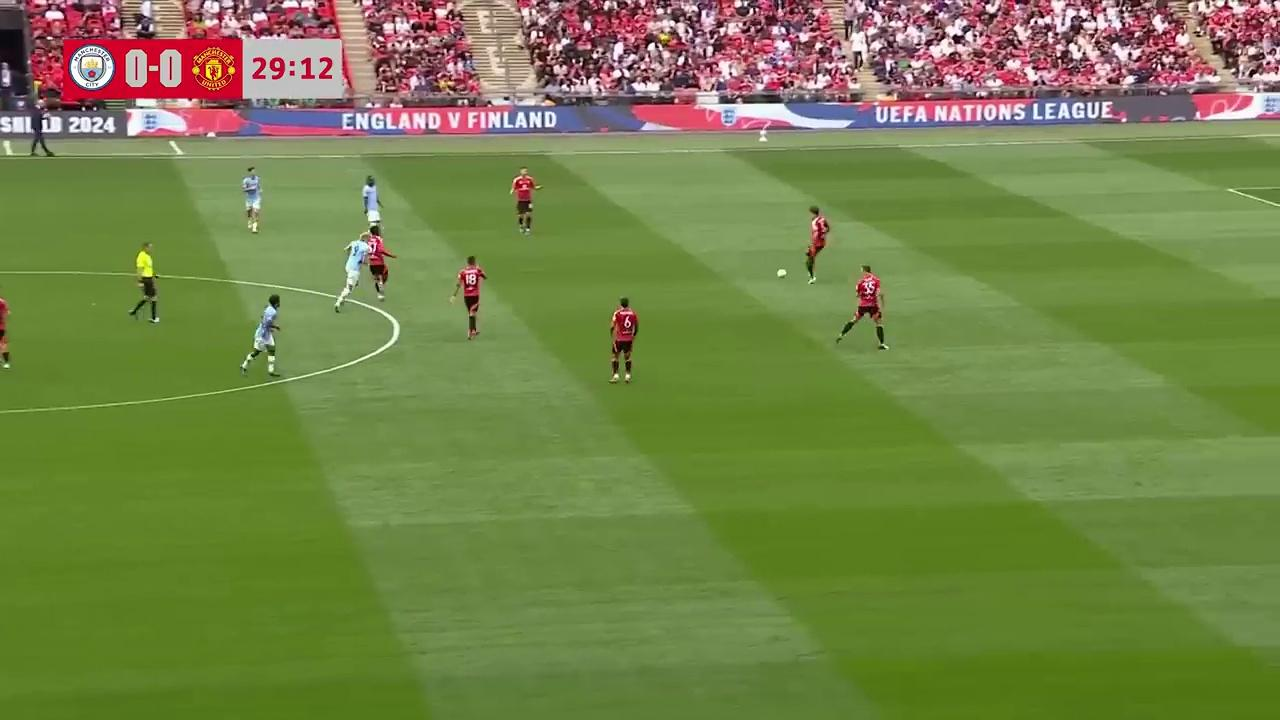ball: (774, 265, 787, 280)
player: (836, 264, 888, 351), (239, 293, 281, 378), (450, 255, 486, 339), (608, 296, 638, 384), (363, 229, 397, 300), (334, 234, 364, 312), (804, 206, 831, 285), (510, 167, 539, 235), (241, 166, 262, 233), (361, 176, 382, 235), (0, 288, 11, 371)
referee: (127, 242, 161, 323)
